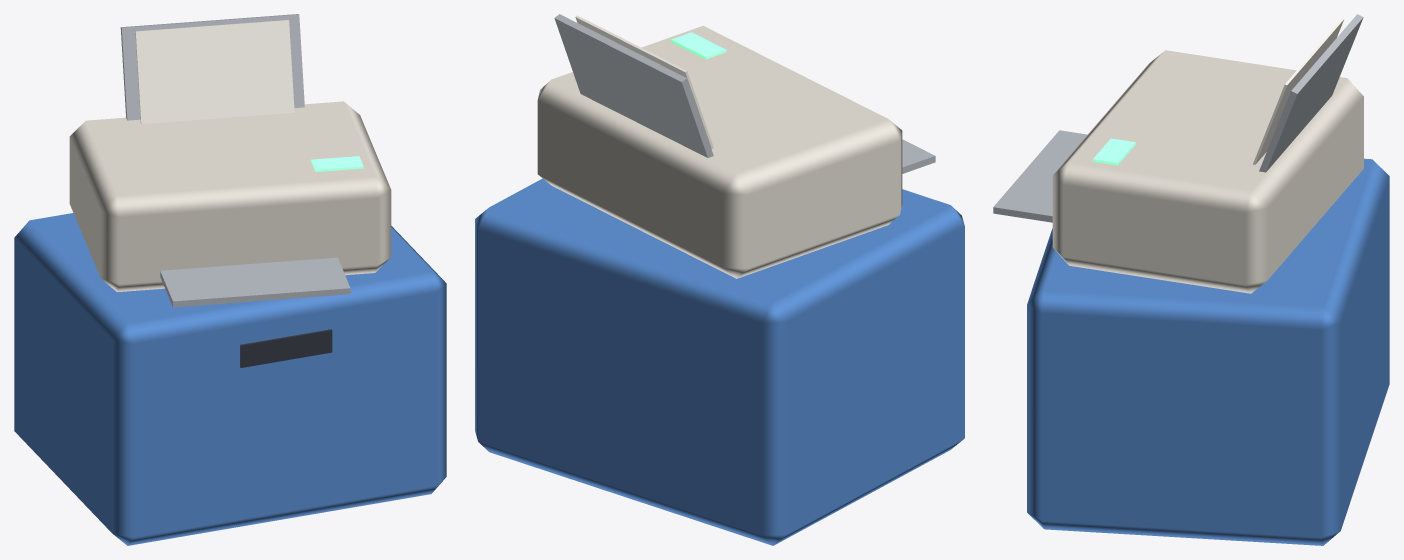
The model's file is station_intake_ausstattung_3_0.glb.
The picture shows the model from 3 angles, left to right: view 1: azimuth 30°, elevation 25°; view 2: azimuth 150°, elevation 25°; view 3: azimuth 270°, elevation 25°; orthographic projection. The views are drawn at different scales.
Parts seen in each view (by area): view 1: station_intake_ausstattung_3_0; view 2: station_intake_ausstattung_3_0; view 3: station_intake_ausstattung_3_0.
Boxes of the visible parts, <box> form: station_intake_ausstattung_3_0: <box>14,14,446,545</box>; station_intake_ausstattung_3_0: <box>475,14,964,545</box>; station_intake_ausstattung_3_0: <box>993,14,1389,545</box>.
Bounding box in the file's own units: 0.4803 × 0.5381 × 0.4504.
